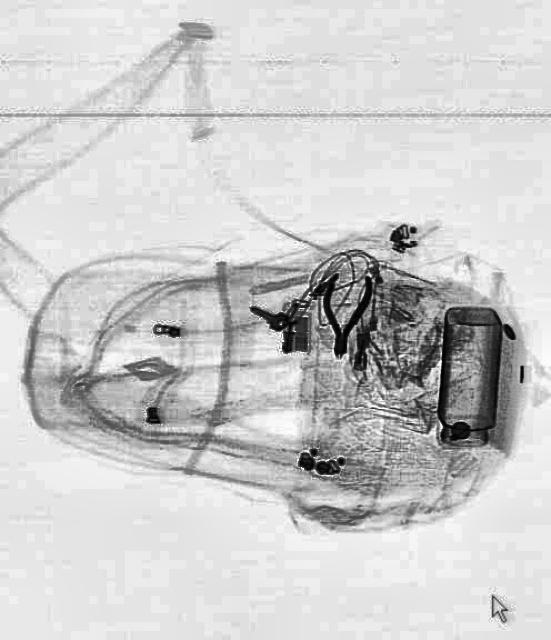Pliers: (316, 269, 374, 359)
